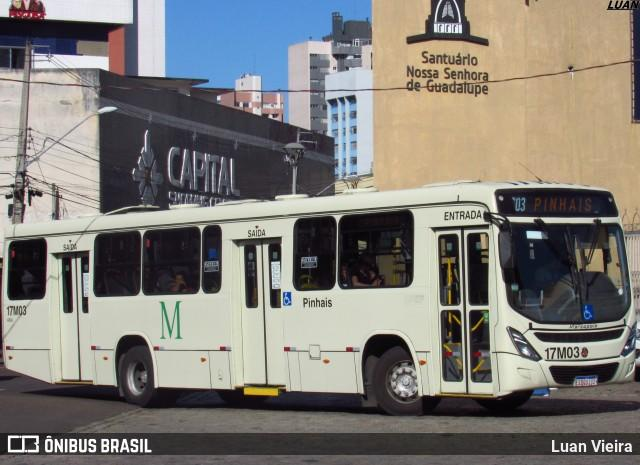PINHAIS: (529, 192, 597, 216)
